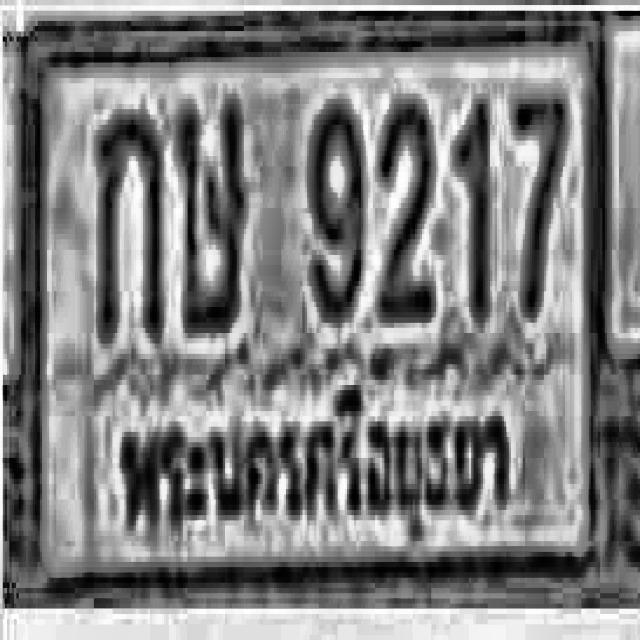license-plate: (19, 20, 609, 595)
